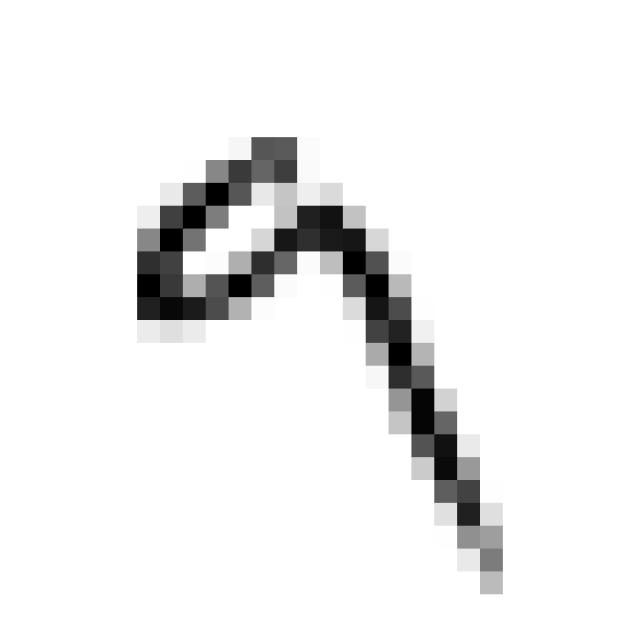9 -nine-: (105, 114, 524, 611)
